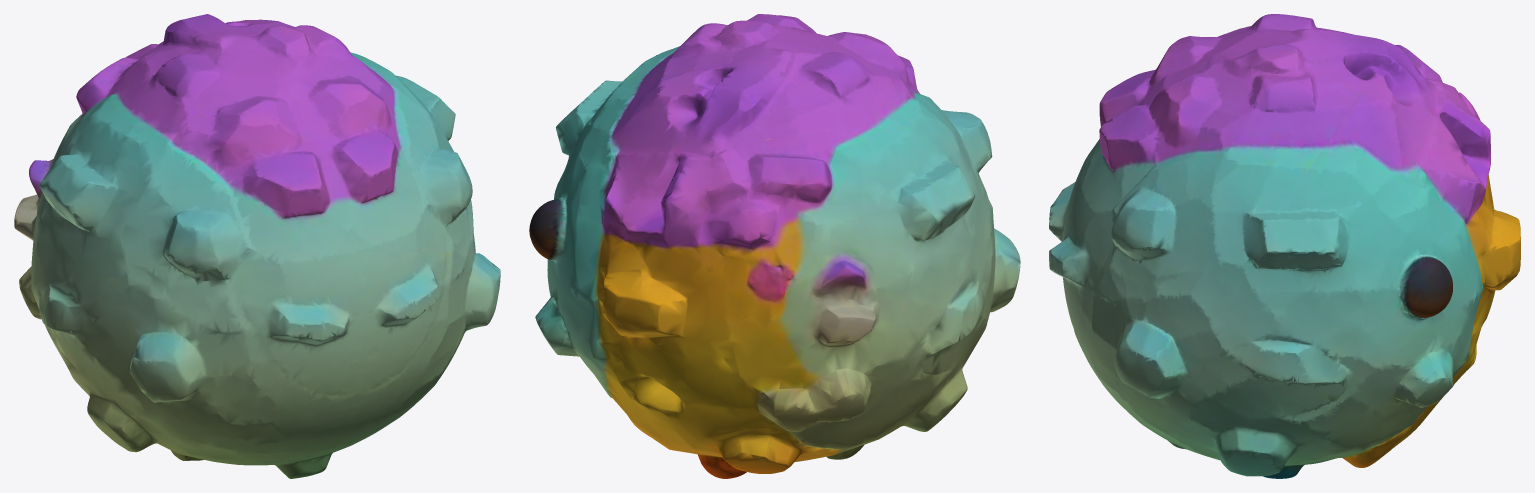
File: core_ball.glb
The picture shows the model from 3 angles, left to right: view 1: azimuth 30°, elevation 25°; view 2: azimuth 150°, elevation 25°; view 3: azimuth 270°, elevation 25°; orthographic projection.
Parts seen in each view (by area): view 1: tripo_node_25777ce1-6940-4a0b-b78b-83fccefb4a70; view 2: tripo_node_25777ce1-6940-4a0b-b78b-83fccefb4a70; view 3: tripo_node_25777ce1-6940-4a0b-b78b-83fccefb4a70.
Boxes of the visible parts, box(x1,y1,x2,y2) form: tripo_node_25777ce1-6940-4a0b-b78b-83fccefb4a70: box(14, 14, 500, 478); tripo_node_25777ce1-6940-4a0b-b78b-83fccefb4a70: box(529, 14, 1020, 478); tripo_node_25777ce1-6940-4a0b-b78b-83fccefb4a70: box(1049, 14, 1520, 478).
Bounding box in the file's own units: 0.9861 × 0.9592 × 0.9995.
Materials: 1 (1 with a texture image).
